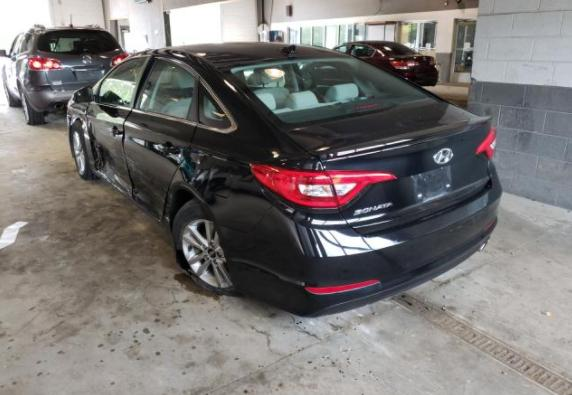Back-bumper: (215, 160, 503, 319)
Back-door: (123, 53, 200, 221)
Back-wheel: (171, 198, 233, 295)
Back-window: (139, 60, 194, 121), (199, 82, 231, 130)
Back-windshield: (220, 58, 436, 128)
Fender: (65, 98, 96, 170)
Front-door: (87, 52, 153, 199)
Front-wheel: (70, 119, 101, 181)
Front-window: (99, 57, 147, 108)
Mirror: (71, 85, 102, 104)
Quarter-panel: (162, 127, 325, 234)
Rocker-panel: (90, 167, 171, 237)
Roof: (159, 41, 358, 67)
Tail-light: (249, 162, 399, 207), (476, 125, 498, 161)
Trunk: (280, 99, 493, 236)
